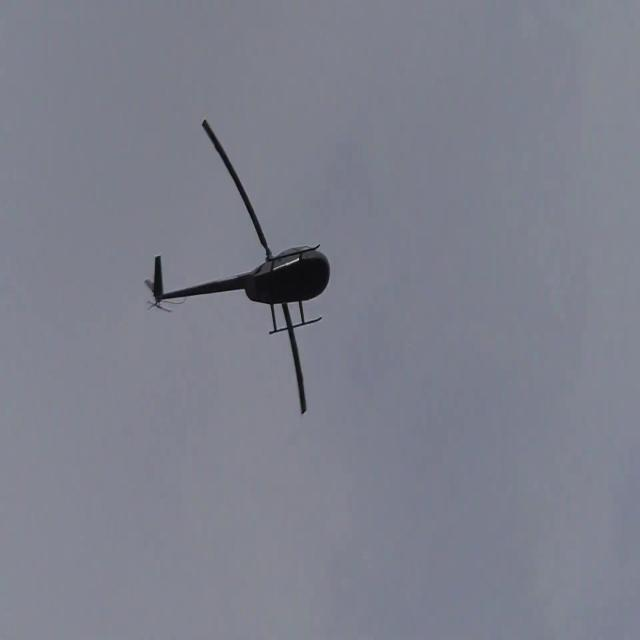CIV_HELO: (144, 242, 332, 336)
